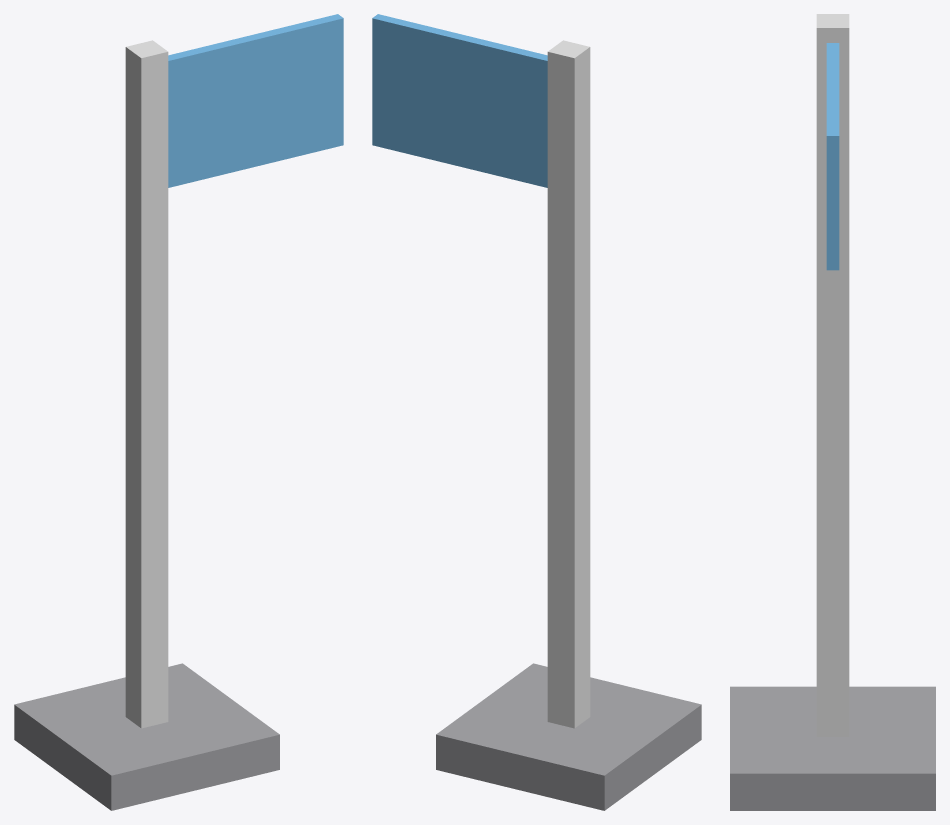
Rendered from tile_goal.glb.
3 views of the same model, side by side, from view 1: azimuth 30°, elevation 25°; view 2: azimuth 150°, elevation 25°; view 3: azimuth 270°, elevation 25° (orthographic). The views are drawn at different scales.
Parts seen in each view (by area): view 1: Pole, Flag, Base; view 2: Pole, Flag, Base; view 3: Base, Pole, Flag.
Boxes of the visible parts, x1,y1,x2,y2 form: Pole: [125, 40, 168, 728]; Flag: [168, 14, 343, 187]; Base: [14, 663, 279, 810]; Pole: [547, 40, 590, 728]; Flag: [372, 14, 547, 187]; Base: [436, 663, 701, 810]; Base: [730, 686, 935, 810]; Pole: [816, 14, 849, 736]; Flag: [826, 43, 839, 270].
Bounding box in the file's own units: 0.825 × 2 × 0.5.
